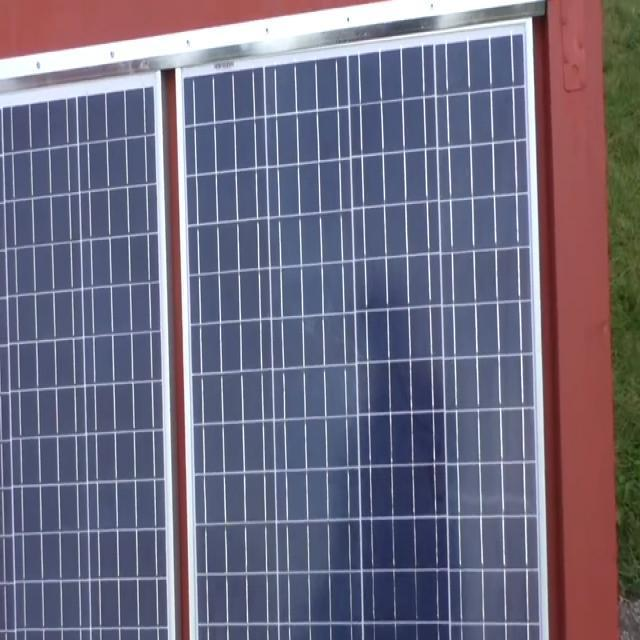Normal Solar Panel: (0, 13, 545, 640)
